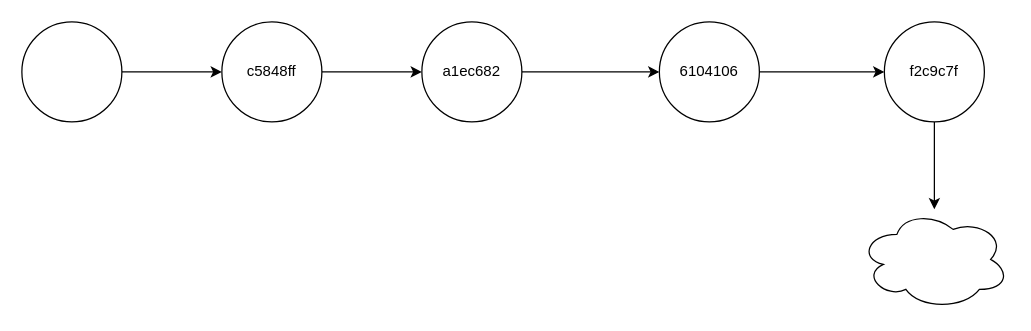
Image size: 1031x331. Some labels were removed from this diagram. The box of each missing label's shape, as (x1, y1, x2, y2) in pixels:
8abff90: (21, 21, 122, 122)
master: (858, 208, 1009, 309)
